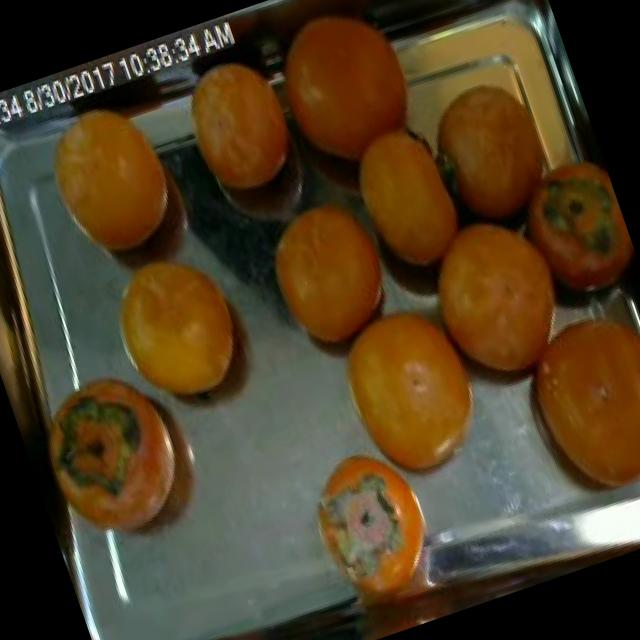Fruit: (299, 262, 522, 518), (405, 175, 611, 419), (29, 344, 241, 572), (81, 219, 290, 438), (228, 162, 428, 386), (482, 271, 640, 540), (279, 424, 466, 640), (250, 0, 452, 199), (18, 76, 202, 284), (157, 32, 316, 222), (326, 108, 479, 301)
